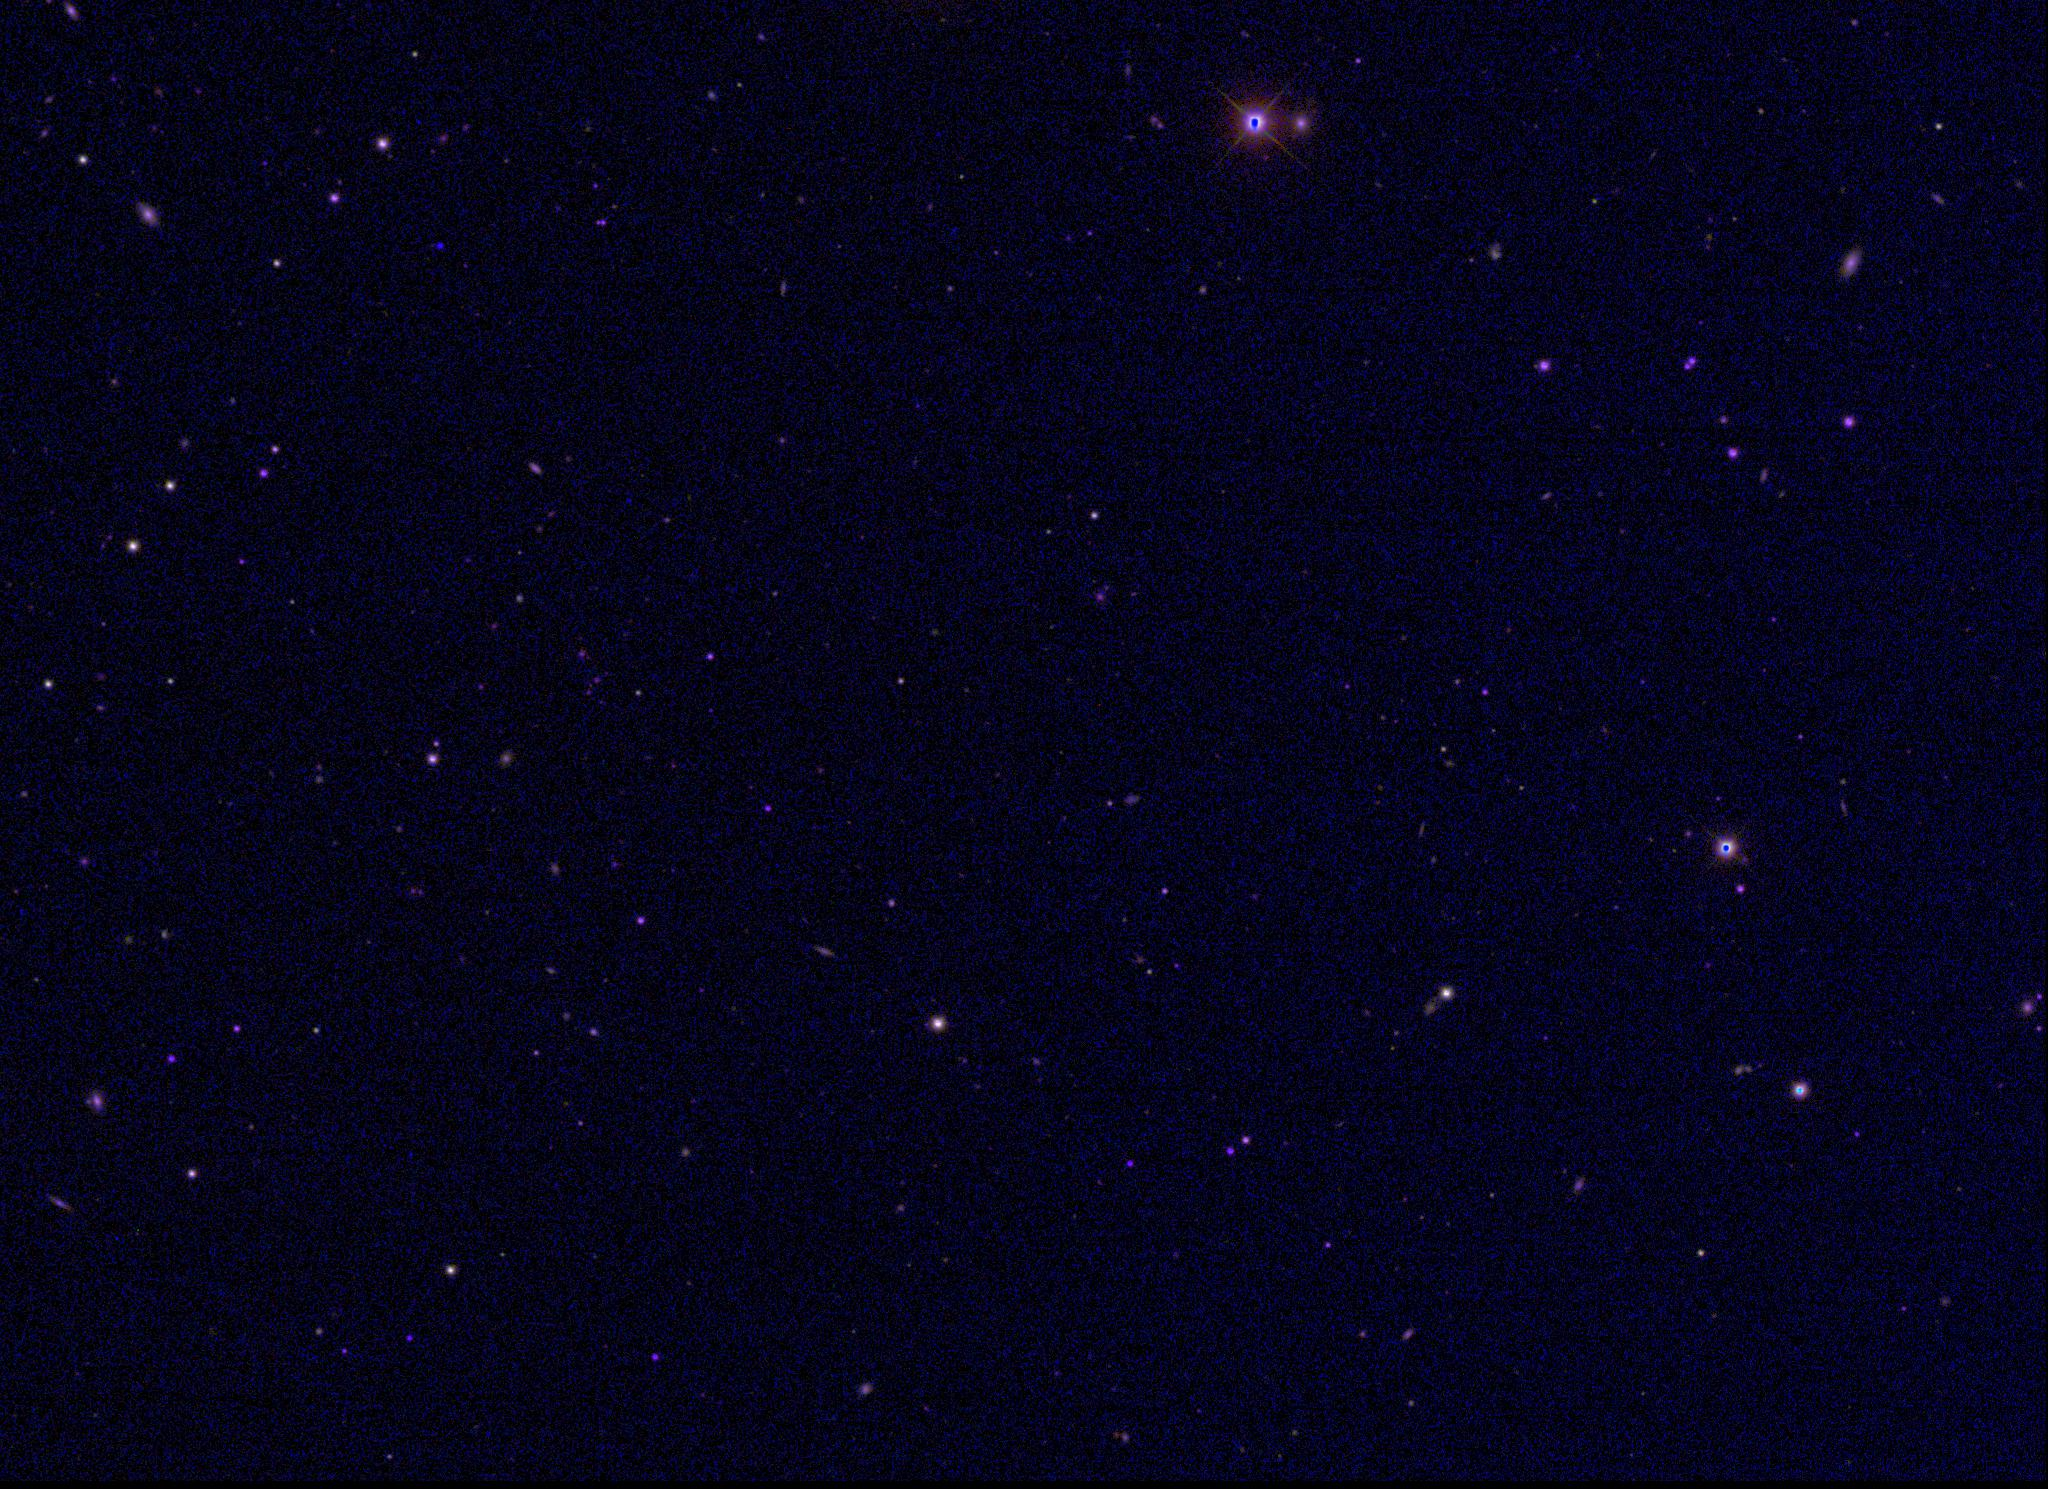L: (432, 239, 447, 251)
